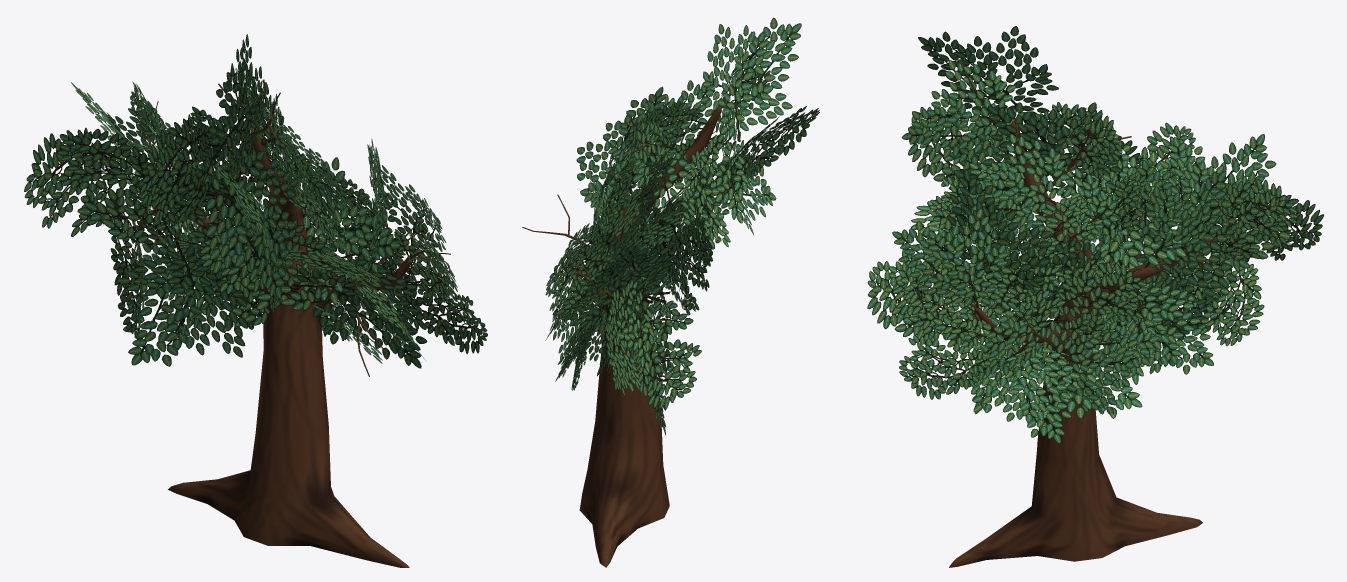
File: arbol1bosque.fbx
3 views of the same model, side by side, from view 1: azimuth 30°, elevation 25°; view 2: azimuth 150°, elevation 25°; view 3: azimuth 270°, elevation 25° (orthographic). The views are drawn at different scales.
Visible parts, largest first — view 1: tronco_Group2, pPlane52, pPlane44, pPlane35, pPlane41, pPlane33, pPlane31, pPlane47, pPlane39, pPlane51, pPlane10, pPlane18 (+22 smaller); view 2: tronco_Group2, pPlane39, pPlane33, pPlane34, pPlane49, pPlane38, pPlane40, pPlane47, pPlane25, pPlane36, pPlane11, pPlane48 (+20 smaller); view 3: tronco_Group2, pPlane18, pPlane17, pPlane39, pPlane24, pPlane19, pPlane10, pPlane40, pPlane27, pPlane21, pPlane26, pPlane15 (+26 smaller).
Part boxes in pixels (x1,y1,x2,y2): tronco_Group2: (168, 128, 410, 567); pPlane52: (116, 241, 247, 366); pPlane44: (199, 146, 297, 298); pPlane35: (56, 128, 176, 243); pPlane41: (292, 258, 427, 368); pPlane33: (140, 114, 218, 223); pPlane31: (200, 216, 344, 310); pPlane47: (24, 127, 119, 236); pPlane39: (209, 34, 265, 178); pPlane51: (297, 157, 400, 304); pPlane10: (399, 266, 487, 353); pPlane18: (380, 165, 446, 272); tronco_Group2: (579, 105, 721, 567); pPlane39: (703, 17, 801, 141); pPlane33: (681, 134, 748, 250); pPlane34: (631, 300, 701, 409); pPlane49: (634, 80, 715, 207); pPlane38: (562, 245, 676, 333); pPlane40: (576, 86, 677, 218); pPlane47: (606, 280, 654, 390); pPlane25: (545, 243, 617, 314); pPlane36: (722, 106, 819, 184); pPlane11: (622, 101, 706, 172); pPlane48: (554, 234, 670, 333); tronco_Group2: (949, 118, 1227, 567); pPlane18: (892, 208, 1011, 308); pPlane17: (902, 60, 1025, 170); pPlane39: (918, 26, 1058, 122); pPlane24: (1037, 310, 1159, 414); pPlane19: (972, 329, 1080, 443); pPlane10: (899, 313, 997, 399); pPlane40: (942, 169, 1051, 305); pPlane27: (956, 134, 1080, 242); pPlane21: (1047, 261, 1148, 348); pPlane26: (1109, 160, 1220, 278); pPlane15: (1102, 282, 1213, 379).
Bounding box in the file's own units: 6.53 × 11.31 × 9.67.
